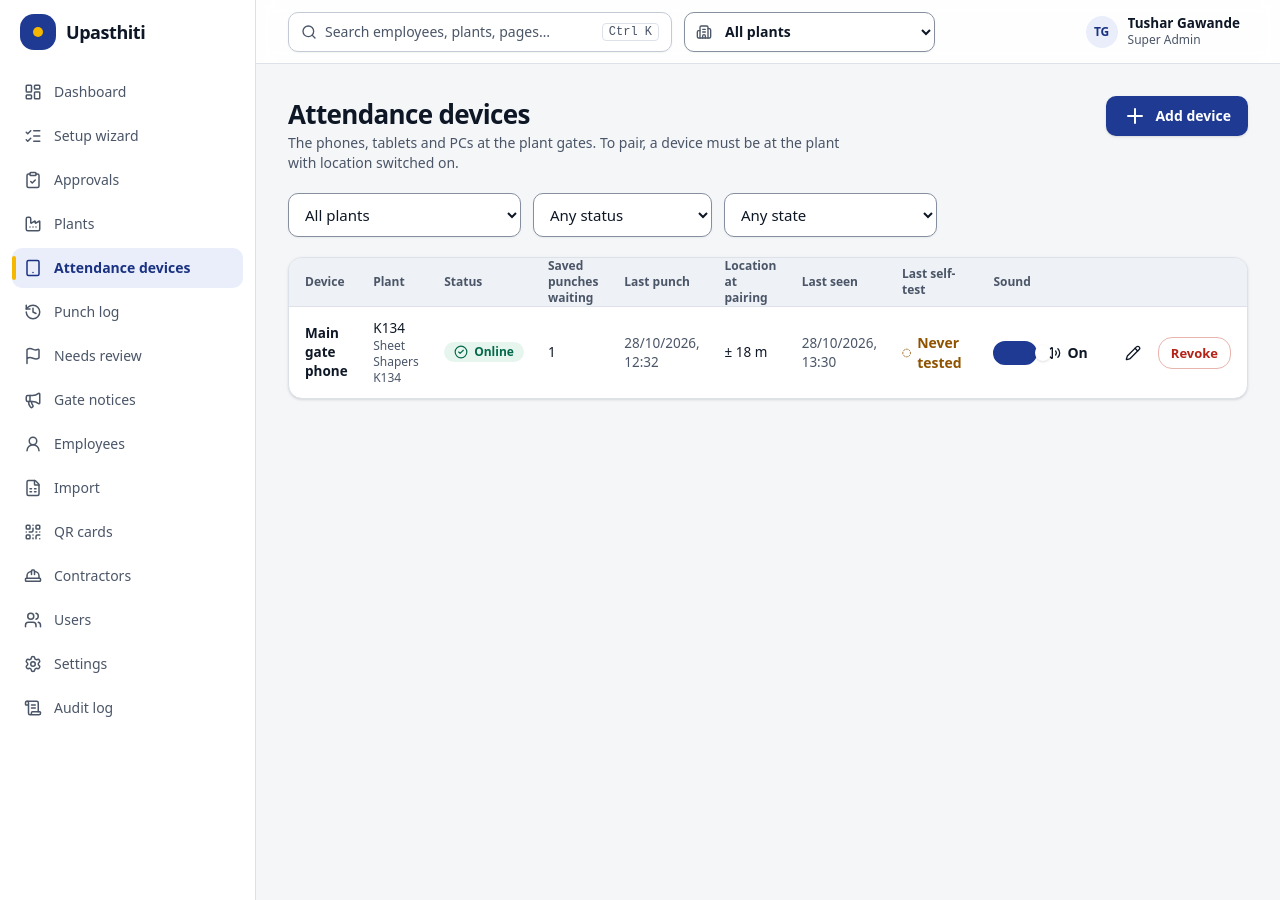
Test case: the drawer facts › shows the waiting punches without a time when the device did not report one
Click the button "Main gate phone": (327, 353) [305,324,349,382]
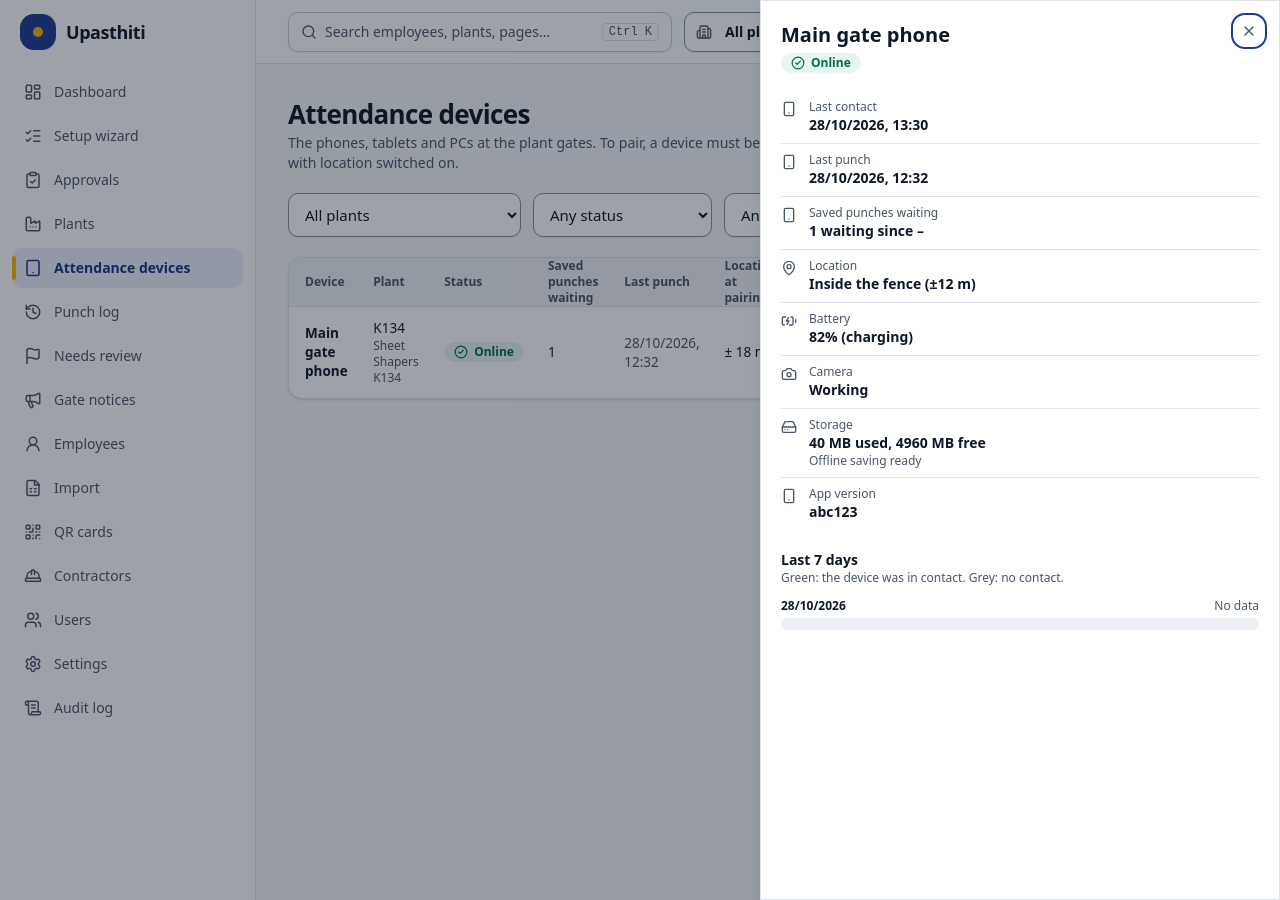
Now the text "1 waiting since –" is shown, box [809,221,938,241]
